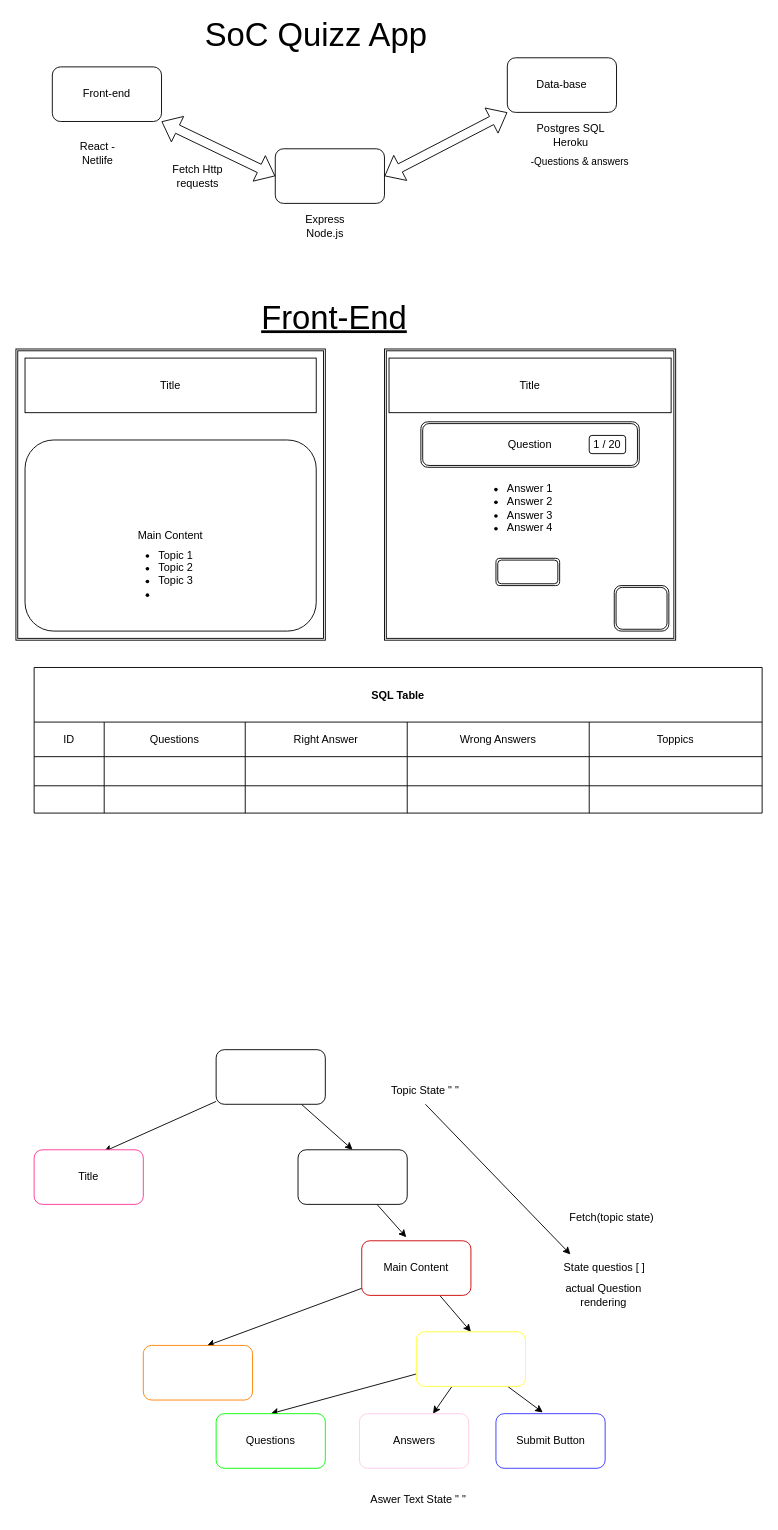
Image size: 778x1530. Some labels were removed from this diagram. Each missing label, with the box of its shape:
API rest: (274, 148, 384, 203)
App: (215, 1049, 325, 1104)
Introduction: (297, 1149, 407, 1204)
Nex Question: (142, 1345, 253, 1400)
Next Question: (613, 585, 669, 631)
Quiz: (415, 1331, 526, 1386)
Submit: (495, 557, 560, 586)
